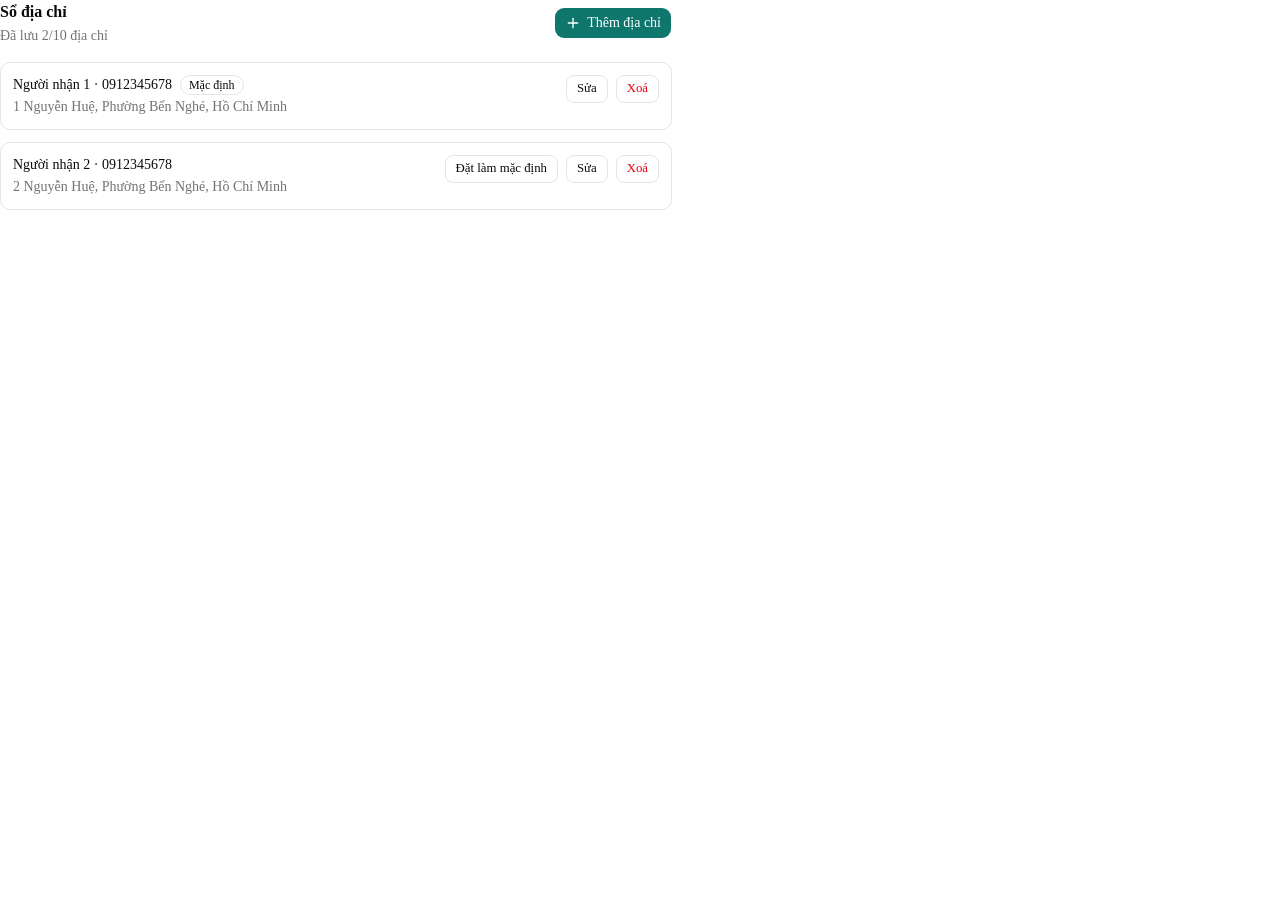
it: AddressBookContainer › xoá địa chỉ (phải xác nhận) › xoá địa chỉ MẶC ĐỊNH khi còn địa chỉ khác -> báo trước địa chỉ nào lên thay
Click the button with aria-label "Xoá địa chỉ của Người nhận 1": (637, 89) top-left (616, 75), bottom-right (659, 103)
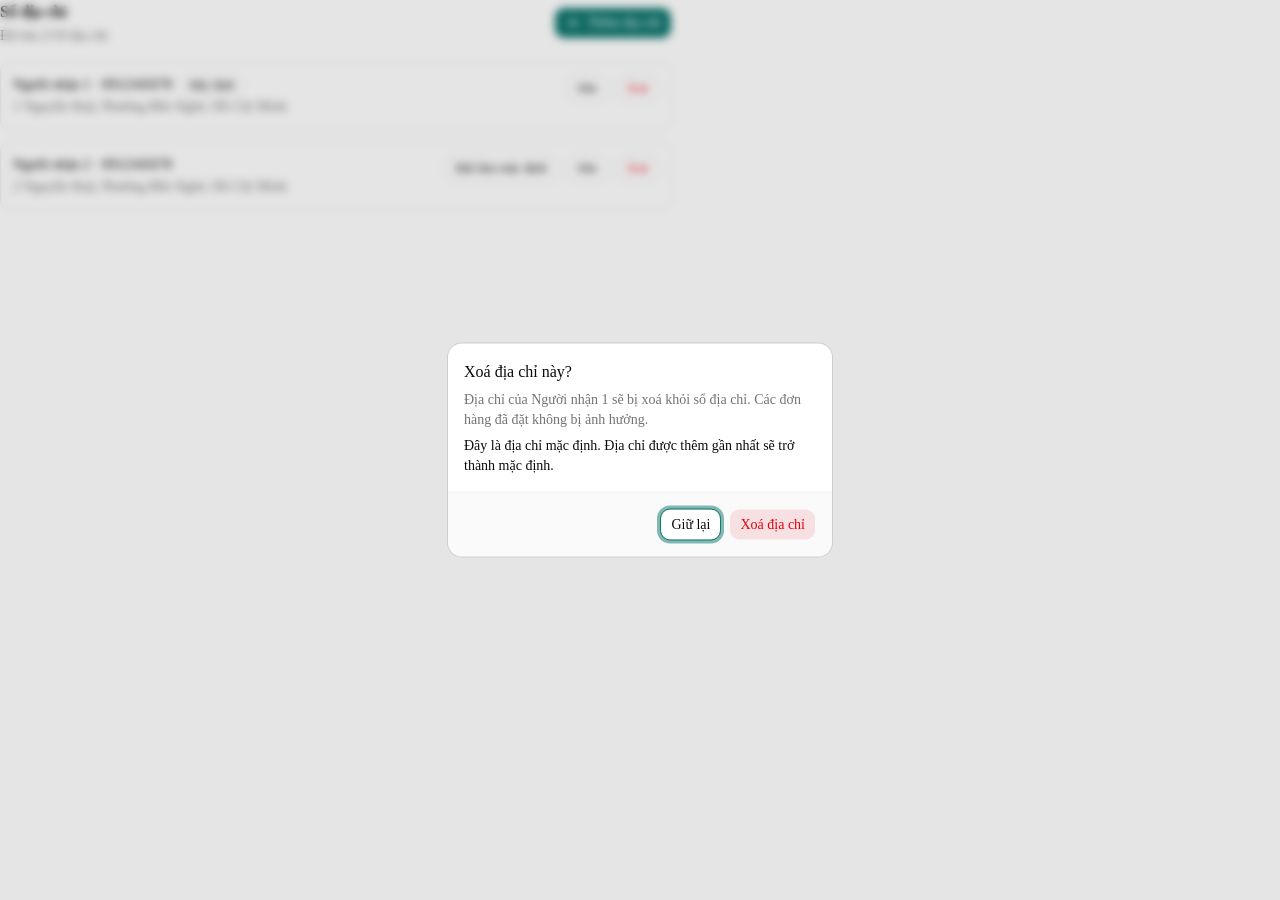
Expected: the text "Địa chỉ được thêm gần nhất sẽ trở thành mặc định" is shown, top-left (464, 438), bottom-right (794, 472)
